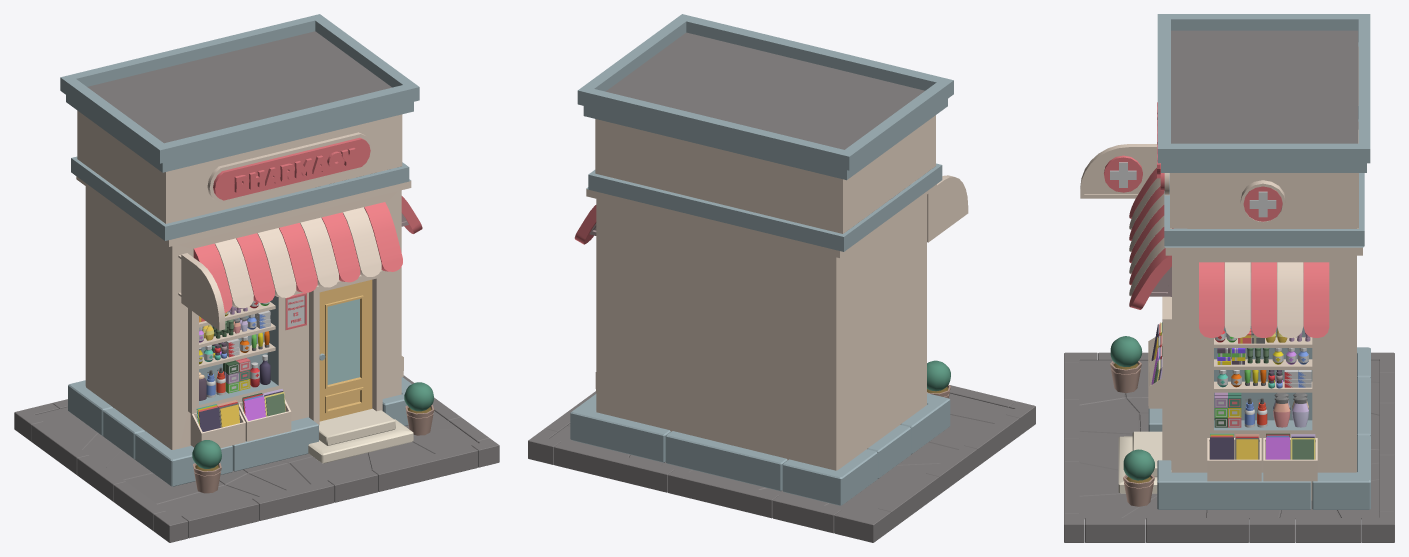
File: pharmacy.fbx
3 renders of one model, left to right at view 1: azimuth 30°, elevation 25°; view 2: azimuth 150°, elevation 25°; view 3: azimuth 270°, elevation 25°, orthographic. The views are drawn at different scales.
Parts seen in each view (by area): view 1: pharmacy; view 2: pharmacy; view 3: pharmacy.
Boxes of the visible parts, bbox=[...] form: pharmacy: bbox=[14, 14, 499, 542]; pharmacy: bbox=[528, 14, 1035, 542]; pharmacy: bbox=[1064, 14, 1394, 542].
Bounding box in the file's own units: 415 × 423 × 338.
